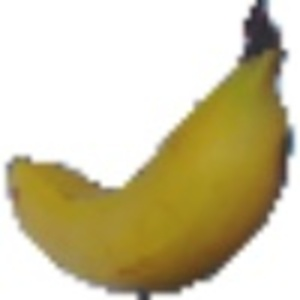banana: (1, 41, 295, 295)
